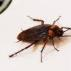cockroach: (17, 23, 65, 45)
